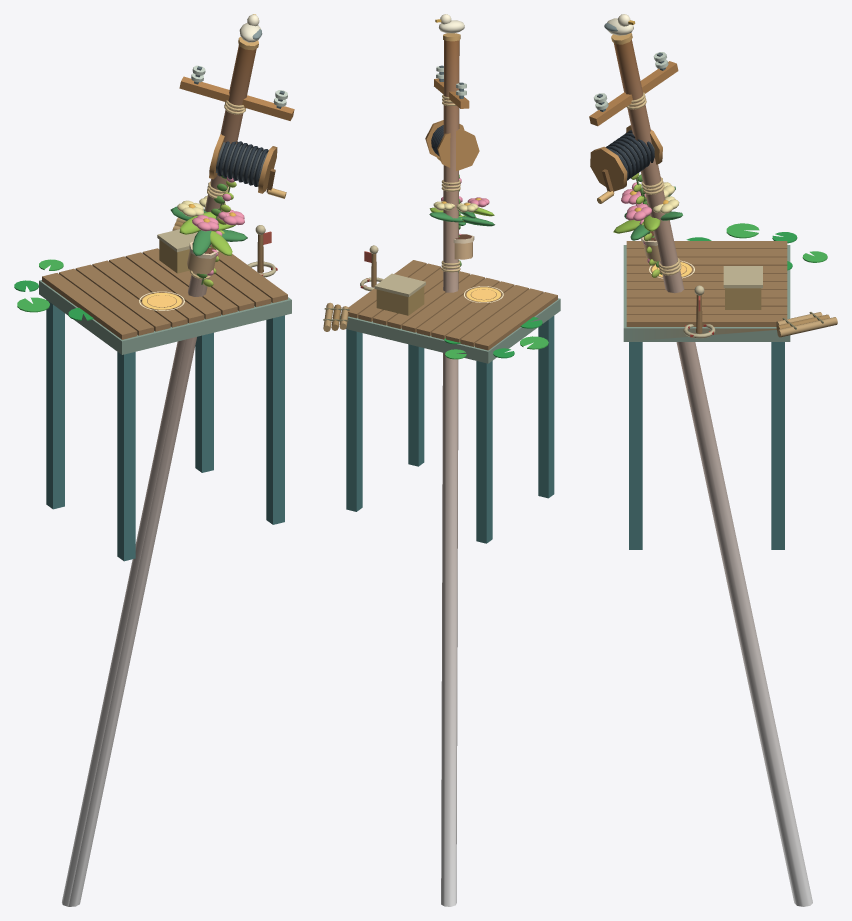
The model's file is salvage_station.glb.
3 renders of one model, left to right at view 1: azimuth 30°, elevation 25°; view 2: azimuth 150°, elevation 25°; view 3: azimuth 270°, elevation 25°, orthographic. The views are drawn at different scales.
Visible parts, largest first — view 1: PoleAndFlowers, 绞盘打捞台-海下基座-02.001, 绞盘打捞台-海上区域-01.001; view 2: PoleAndFlowers, 绞盘打捞台-海下基座-02.001, 绞盘打捞台-海上区域-01.001; view 3: PoleAndFlowers, 绞盘打捞台-海上区域-01.001, 绞盘打捞台-海下基座-02.001.
Part boxes in pixels (left/top/right/bottom): PoleAndFlowers: left=62, top=14, right=294, bottom=906; 绞盘打捞台-海下基座-02.001: left=39, top=272, right=291, bottom=561; 绞盘打捞台-海上区域-01.001: left=14, top=217, right=291, bottom=341; PoleAndFlowers: left=425, top=14, right=494, bottom=906; 绞盘打捞台-海下基座-02.001: left=340, top=287, right=560, bottom=543; 绞盘打捞台-海上区域-01.001: left=323, top=245, right=560, bottom=359; PoleAndFlowers: left=589, top=14, right=812, bottom=906; 绞盘打捞台-海上区域-01.001: left=623, top=223, right=837, bottom=338; 绞盘打捞台-海下基座-02.001: left=623, top=329, right=790, bottom=549.
Size of the model in its own units: 8.94 by 34.02 by 8.21.
